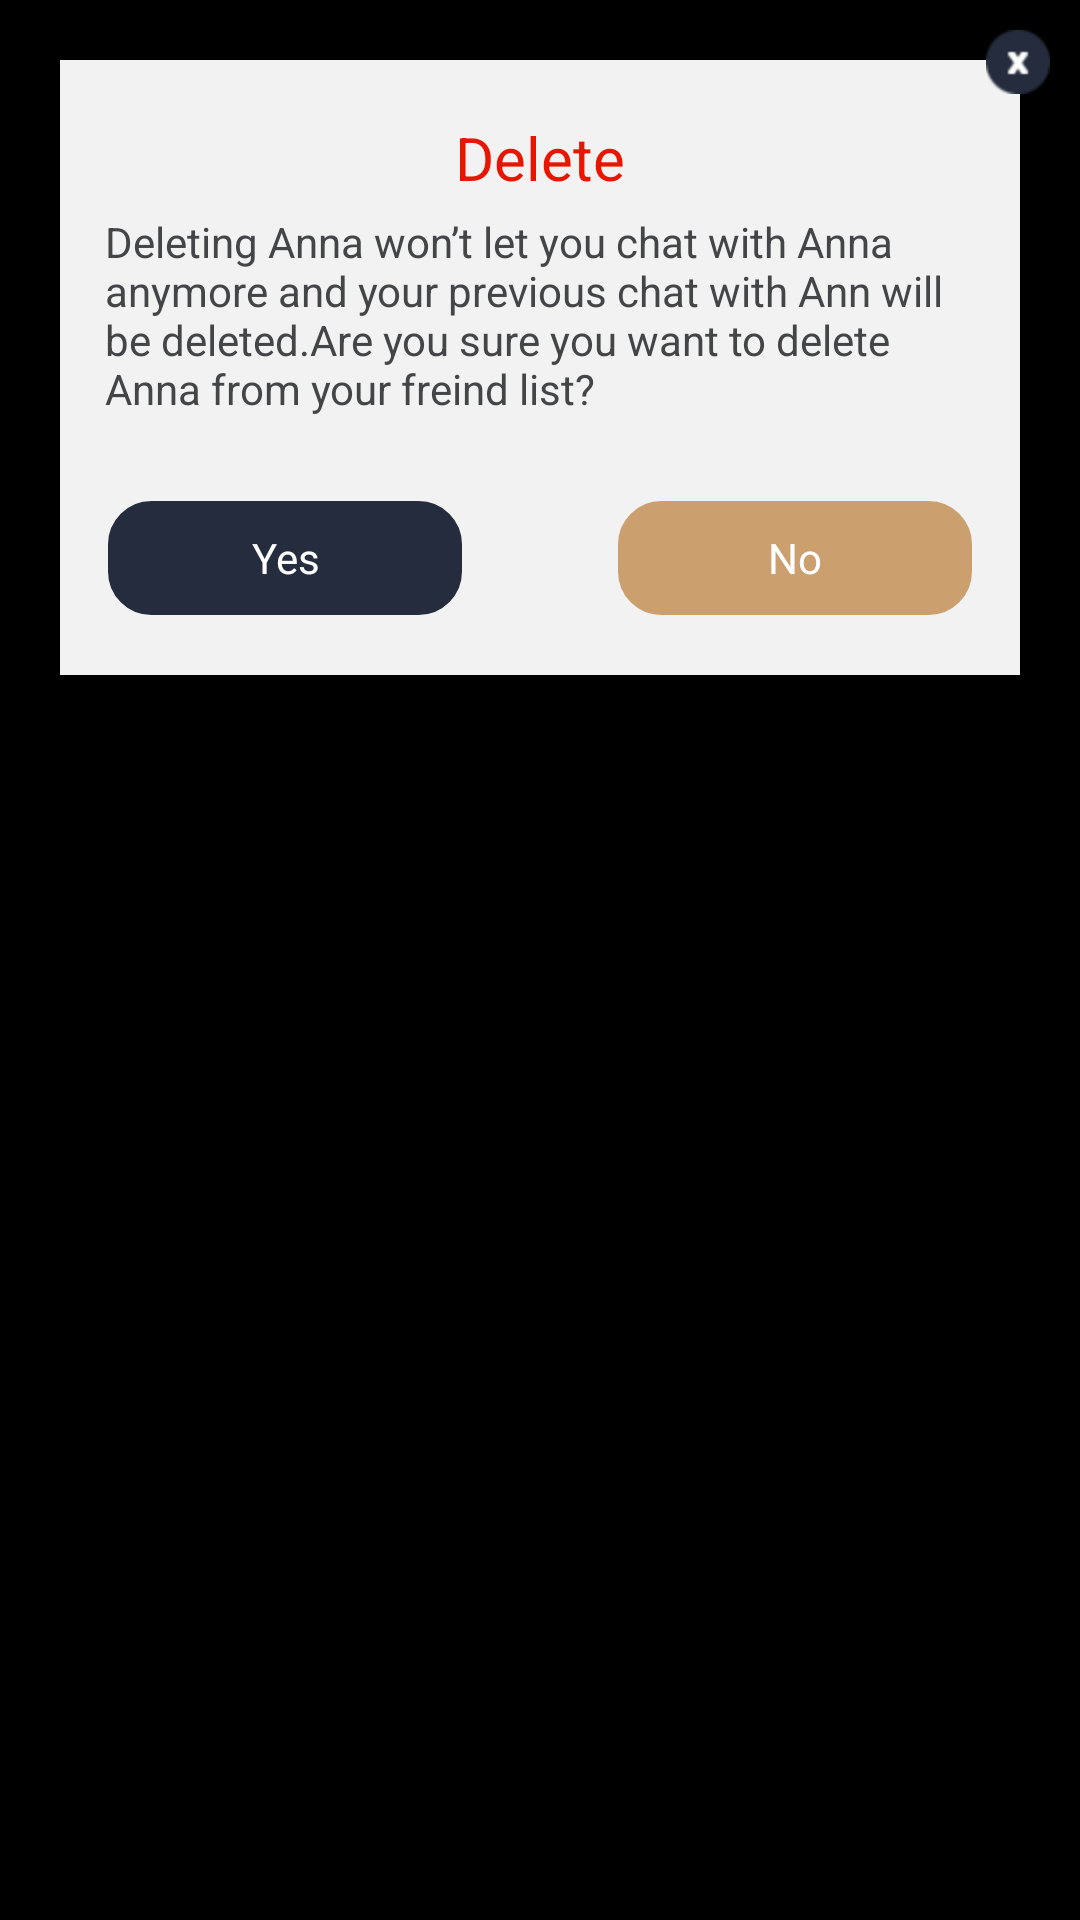

Screen size 1080px×1920px. Icon name, then its box in pixels as (x1, y1, x2, y2):
cross: (986, 30, 1050, 94)
